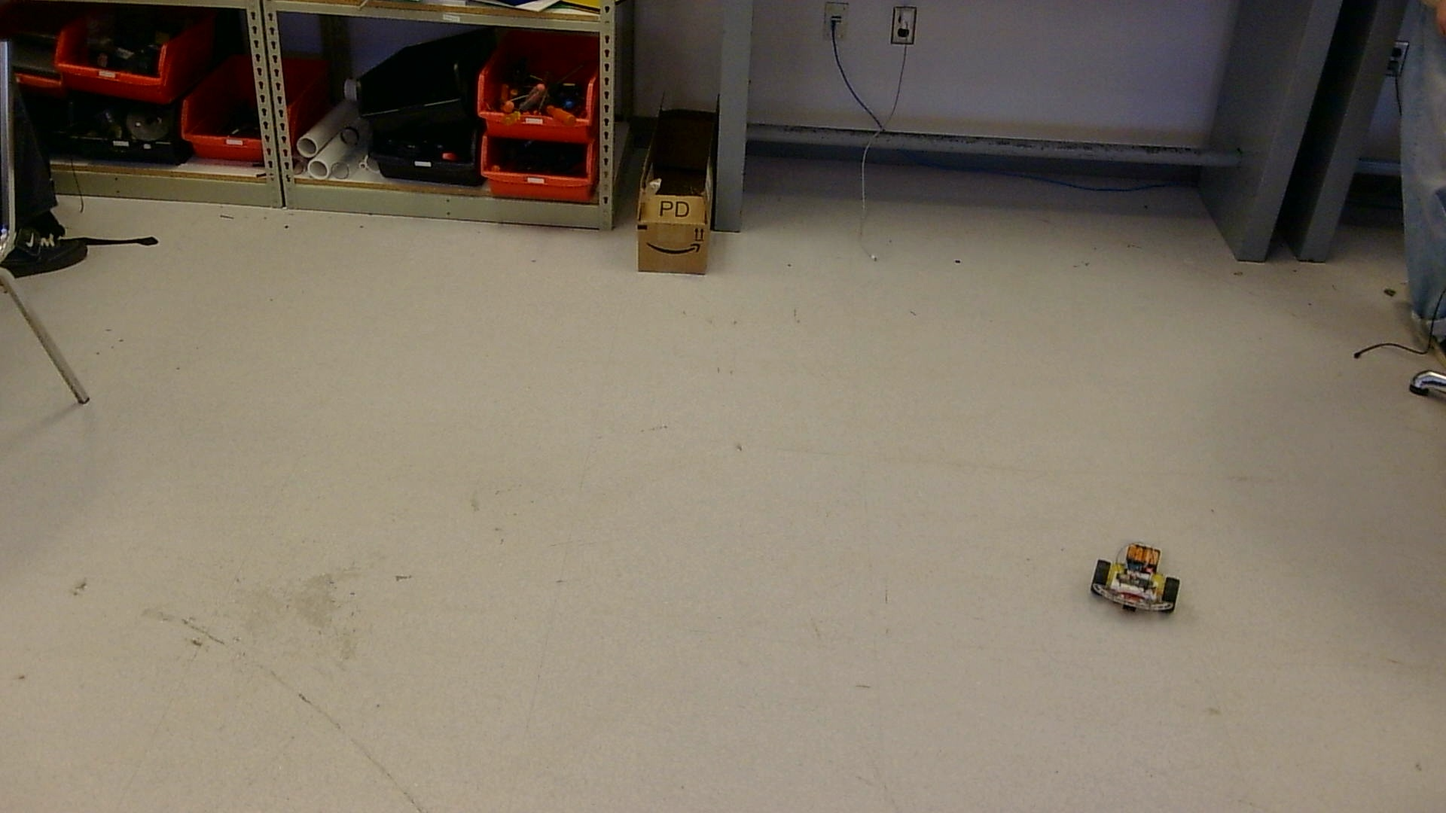robot: (1091, 544, 1179, 613)
